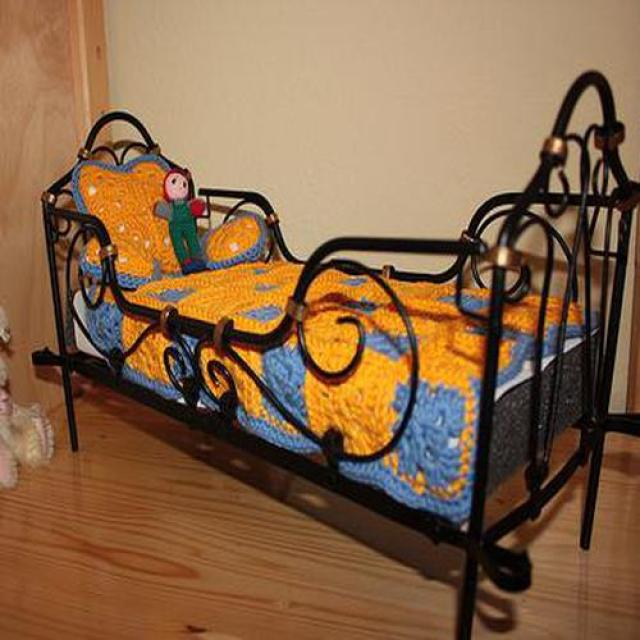bed: (38, 72, 640, 640)
